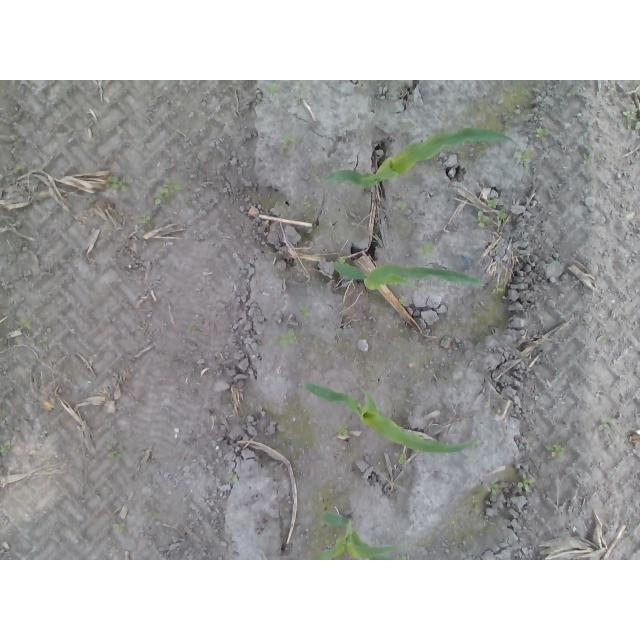Maize: (323, 126, 518, 195), (302, 382, 478, 454), (332, 261, 484, 293), (309, 512, 407, 561)
Weeds: (153, 179, 183, 206), (106, 176, 134, 192), (622, 106, 640, 130), (513, 147, 532, 169), (136, 213, 156, 232), (278, 328, 296, 347), (545, 442, 566, 458), (279, 133, 297, 151), (418, 241, 436, 259), (517, 474, 536, 491), (472, 210, 489, 227), (107, 444, 126, 459), (598, 416, 615, 430), (268, 83, 281, 98), (16, 319, 33, 330), (298, 303, 311, 317), (496, 209, 506, 227), (535, 126, 550, 138), (486, 481, 498, 495), (1, 439, 12, 454), (336, 424, 349, 436), (112, 522, 126, 533), (393, 201, 408, 211), (226, 471, 238, 483), (394, 452, 406, 464), (486, 199, 499, 210), (492, 285, 505, 296), (583, 152, 594, 164), (566, 88, 579, 97), (14, 163, 26, 172), (338, 258, 350, 266), (145, 511, 158, 518), (398, 299, 408, 307), (187, 324, 195, 333), (598, 334, 607, 342), (305, 199, 312, 209)
